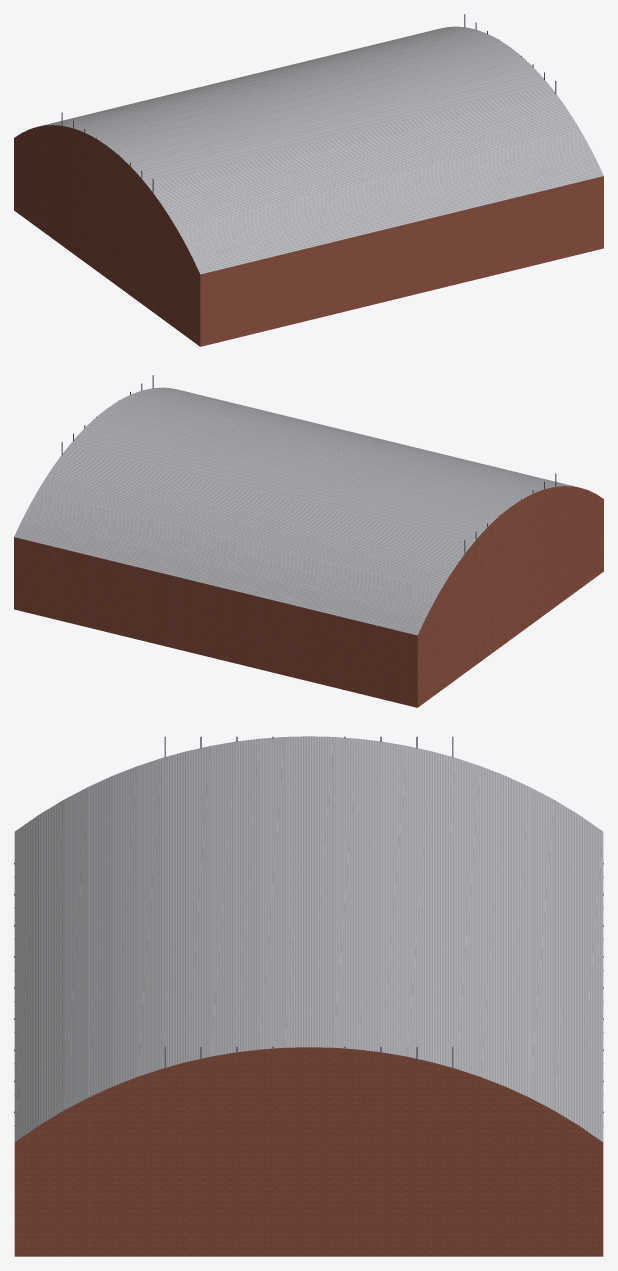
Rendered from college_fieldhouse.glb.
The picture shows the model from 3 angles, top to bottom: view 1: azimuth 30°, elevation 25°; view 2: azimuth 150°, elevation 25°; view 3: azimuth 270°, elevation 25°; orthographic projection. The views are drawn at different scales.
Visible parts, largest first — view 1: M_Roof, M_Wall_Brick; view 2: M_Roof, M_Wall_Brick; view 3: M_Roof, M_Wall_Brick.
Boxes of the visible parts, bbox=[...] form: M_Roof: bbox=[40, 26, 603, 274]; M_Wall_Brick: bbox=[14, 125, 603, 346]; M_Roof: bbox=[14, 387, 577, 635]; M_Wall_Brick: bbox=[14, 486, 603, 707]; M_Roof: bbox=[14, 736, 603, 1141]; M_Wall_Brick: bbox=[14, 1047, 603, 1256].
Bounding box in the file's own units: 70 × 22 × 56.15.
Materials: 15 (4 with a texture image).
